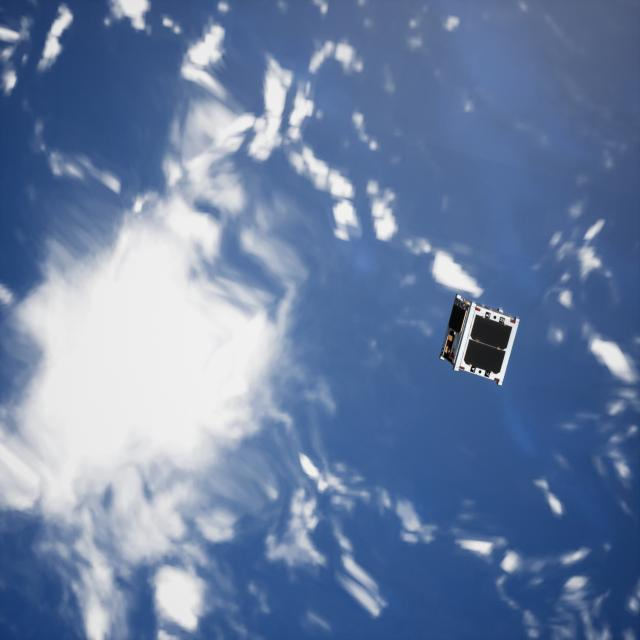satellite: (435, 289, 528, 388)
